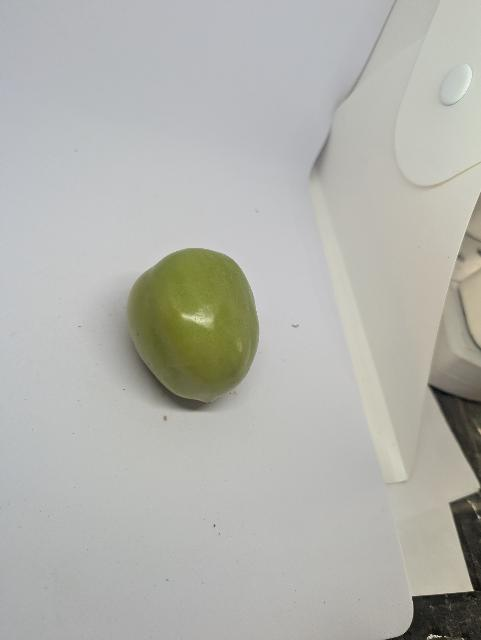green: (124, 246, 264, 403)
